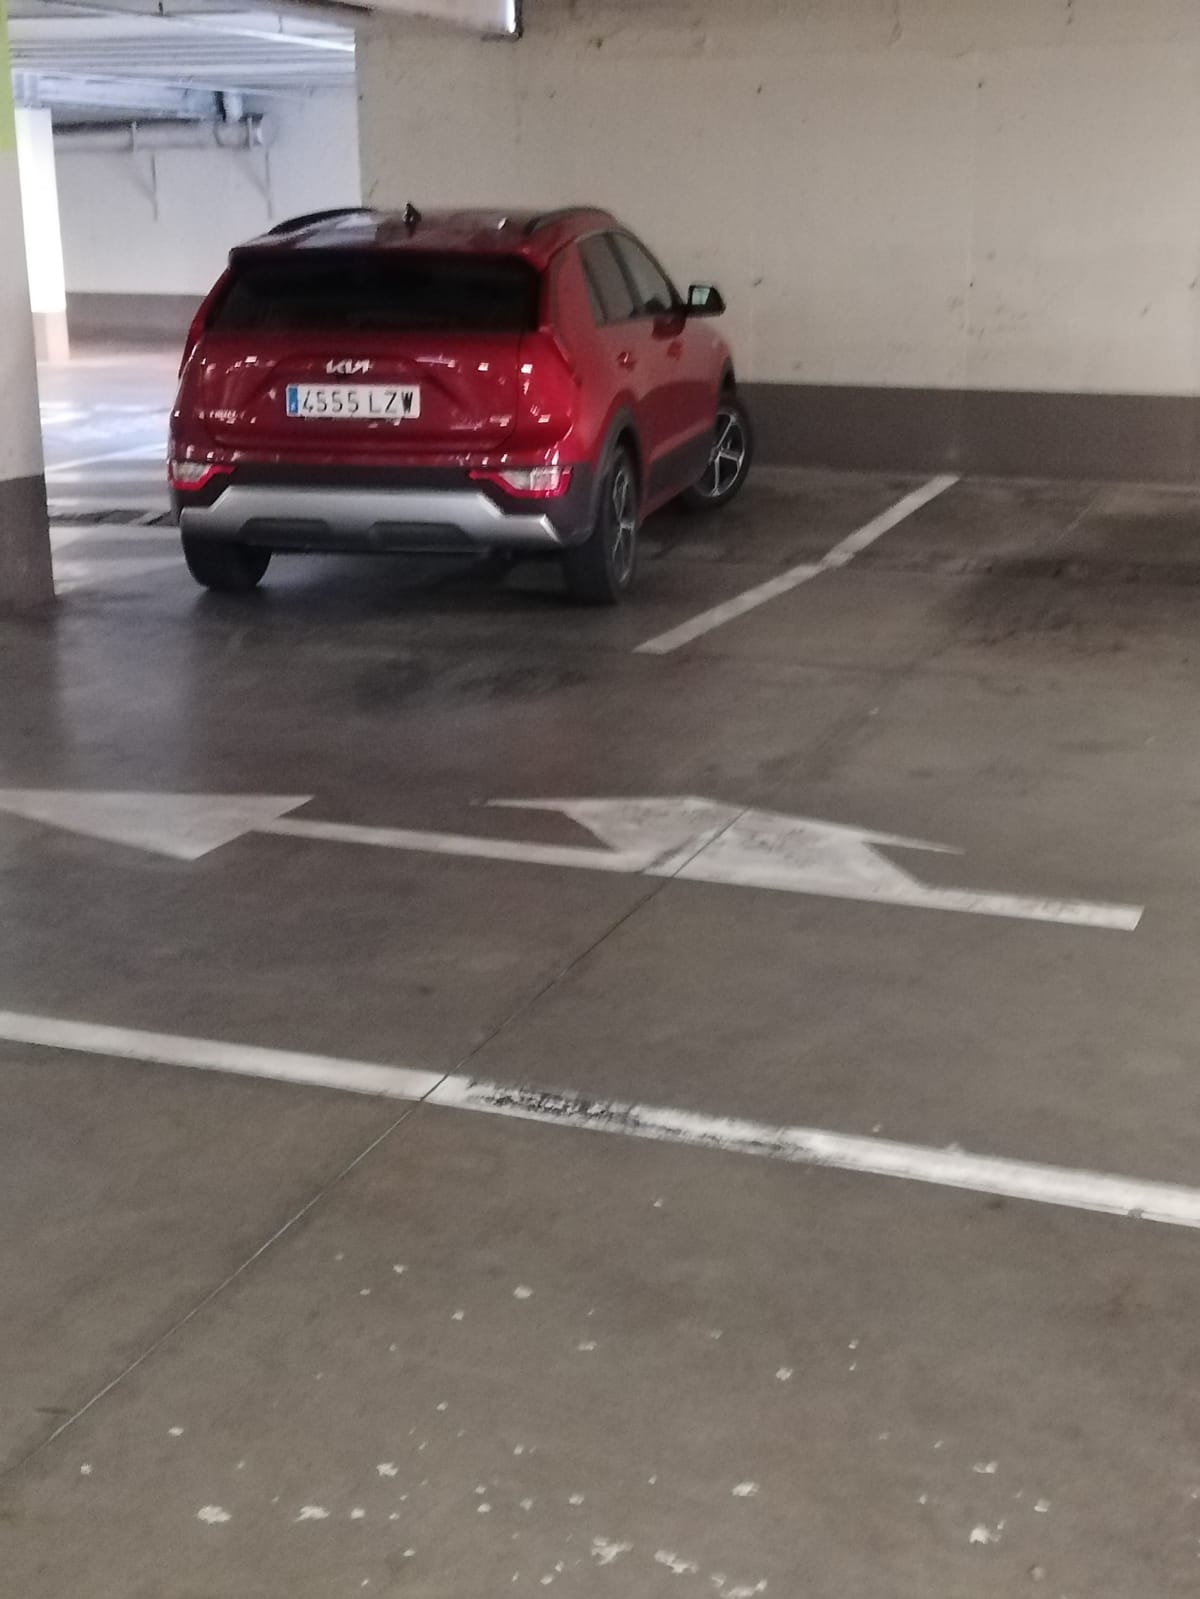Car: (172, 210, 779, 586)
Plate: (285, 380, 419, 419)
